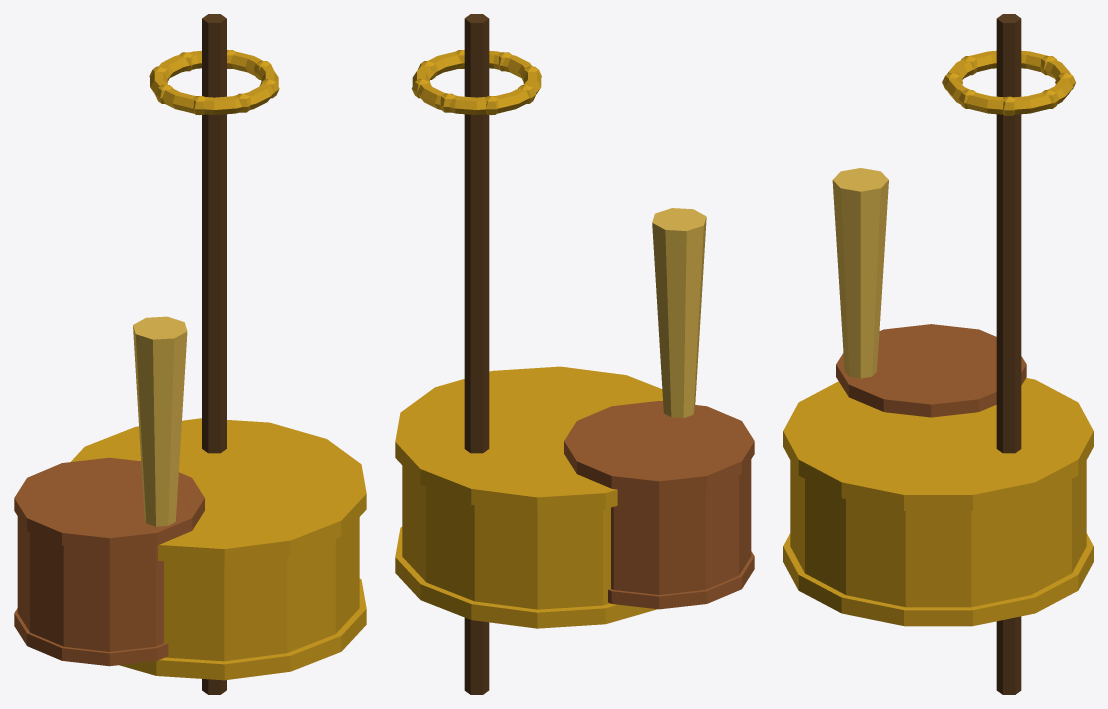
Rendered from band_instruments.glb.
3 renders of one model, left to right at view 1: azimuth 30°, elevation 25°; view 2: azimuth 150°, elevation 25°; view 3: azimuth 270°, elevation 25°, orthographic.
Visible parts, largest first — view 1: kos, davul, cevgen_staff, zurna, cevgen_ring; view 2: kos, davul, cevgen_staff, zurna, cevgen_ring; view 3: kos, cevgen_staff, davul, zurna, cevgen_ring.
Part boxes in pixels (box(x1,y1,x2,y2)): kos: box(71, 418, 366, 680); davul: box(14, 457, 204, 666); cevgen_staff: box(202, 14, 226, 694); zurna: box(133, 316, 187, 526); cevgen_ring: box(149, 50, 279, 115); kos: box(395, 366, 662, 628); davul: box(564, 401, 754, 609); cevgen_staff: box(464, 14, 489, 694); zurna: box(652, 208, 706, 417); cevgen_ring: box(411, 50, 541, 115); kos: box(783, 378, 1093, 626); cevgen_staff: box(996, 14, 1021, 694); davul: box(836, 324, 1026, 417); zurna: box(832, 168, 888, 378); cevgen_ring: box(942, 50, 1075, 115).
Size of the model in its own units: 1.05 by 2.1 by 0.88.
